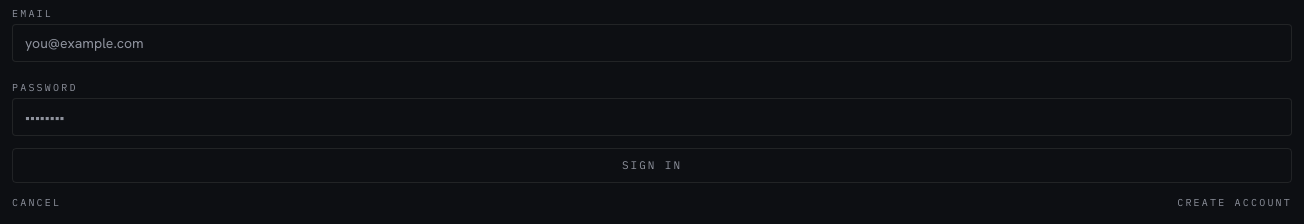
Test case: EmailAuthForm › sign-in submit › disables submit button while in flight
Type "test@example.com" into the field labelled "Email". click: [652, 43]
box: [12,24,1292,62]
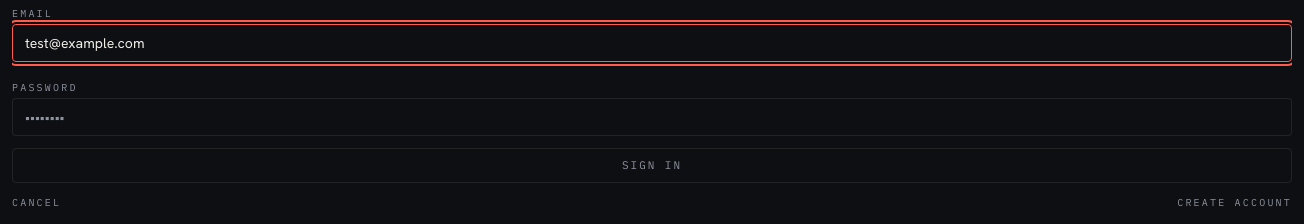
Type "password123" into the password field labelled "Password". click: [652, 117]
box: [12,98,1292,136]
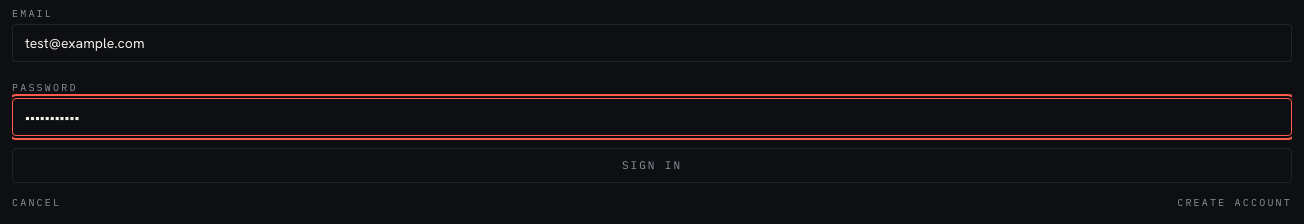
Click the button "Sign in". click: [652, 165]
box: [12,148,1292,182]
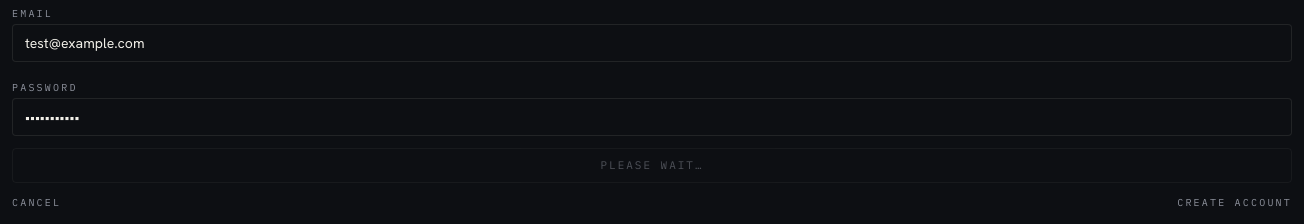
Expected: the button "Please wait…" is shown, [12,148,1292,182]
